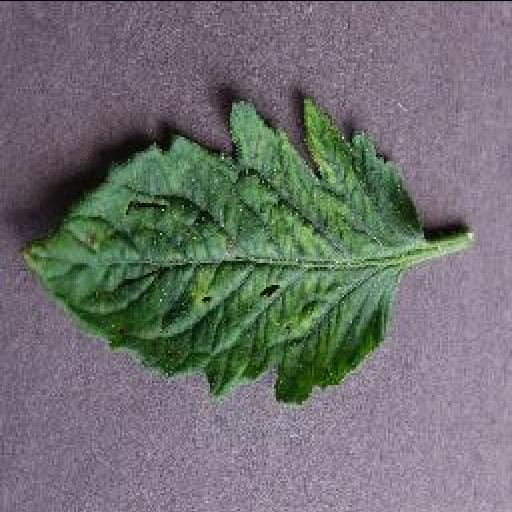Mosaic Virus: (16, 86, 420, 400)
